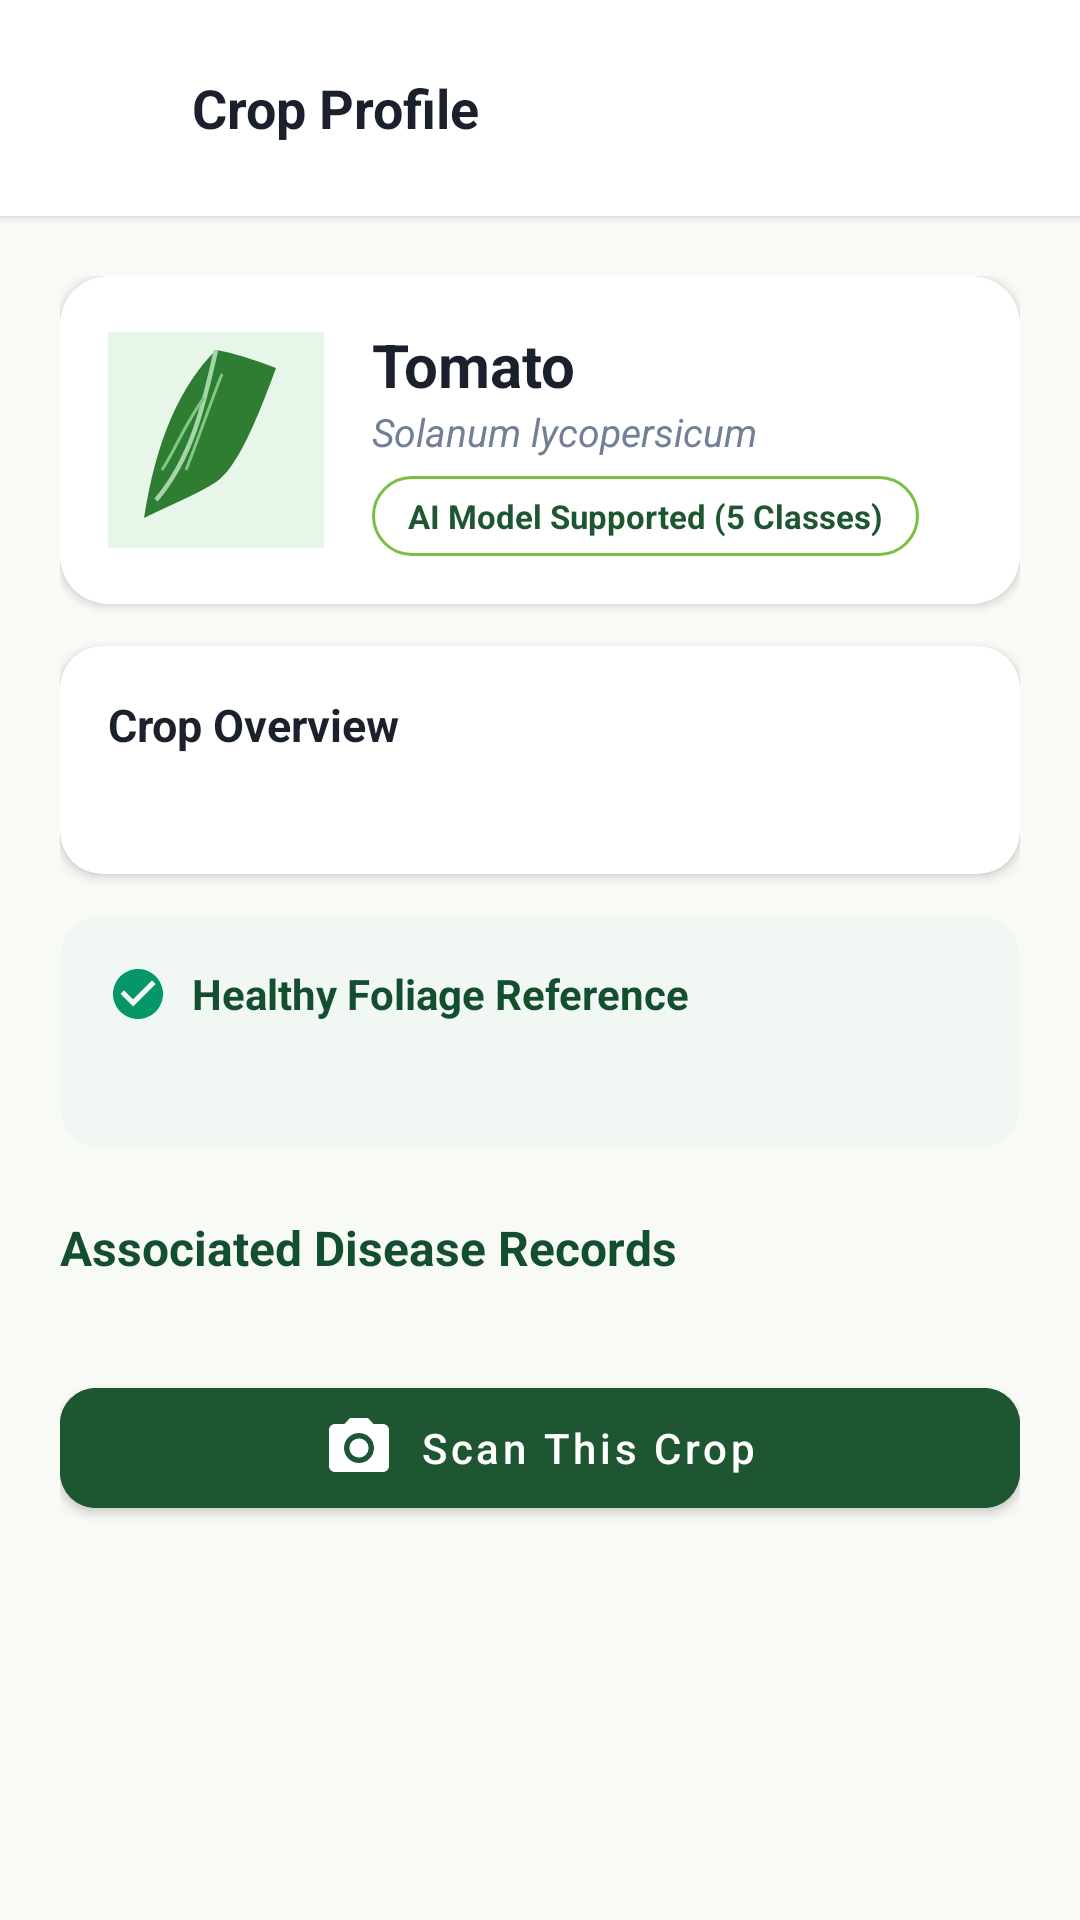

Screen size 1080*1920. Icon name, then its box in pixels as {"x1": x1, "y1": y1, "x2": x2, "y2": y2}:
Crop Illustration: {"x1": 144, "y1": 349, "x2": 276, "y2": 518}
